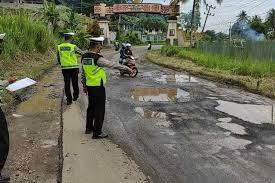Pothole: (118, 79, 197, 143), (216, 96, 275, 155), (17, 54, 65, 120), (132, 56, 212, 95)
